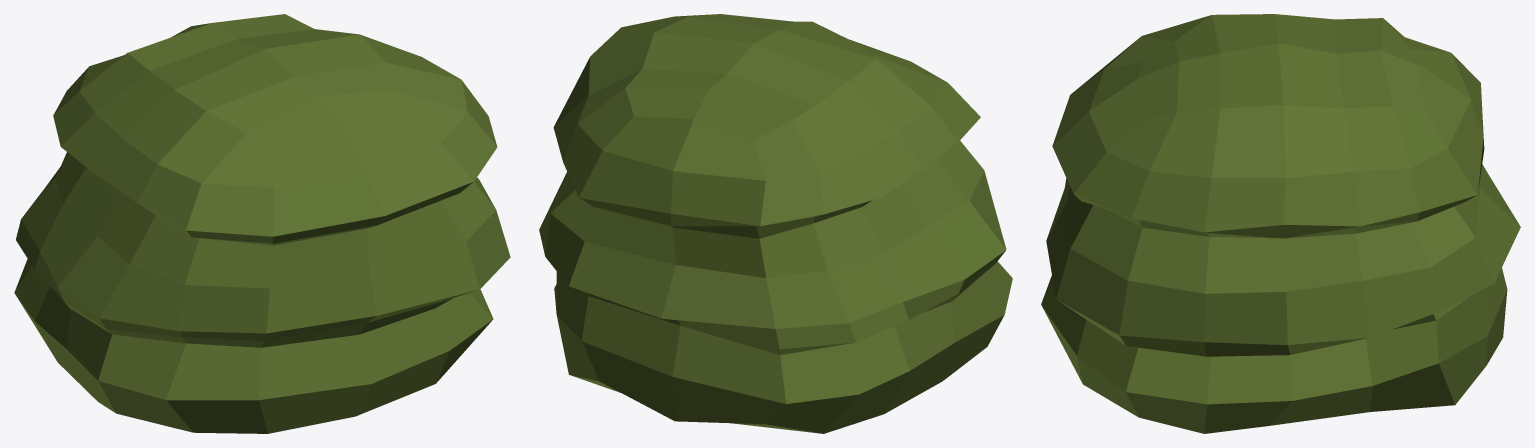
3 views of the same model, side by side, from view 1: azimuth 30°, elevation 25°; view 2: azimuth 150°, elevation 25°; view 3: azimuth 270°, elevation 25° (orthographic). The views are drawn at different scales.
Parts seen in each view (by area): view 1: Bush_1_Cube.045; view 2: Bush_1_Cube.045; view 3: Bush_1_Cube.045.
Boxes of the visible parts, x1,y1,x2,y2 form: Bush_1_Cube.045: [14, 14, 510, 433]; Bush_1_Cube.045: [539, 14, 1012, 433]; Bush_1_Cube.045: [1041, 14, 1520, 433].
Size of the model in its own units: 0.0995 by 0.0746 by 0.0988.
